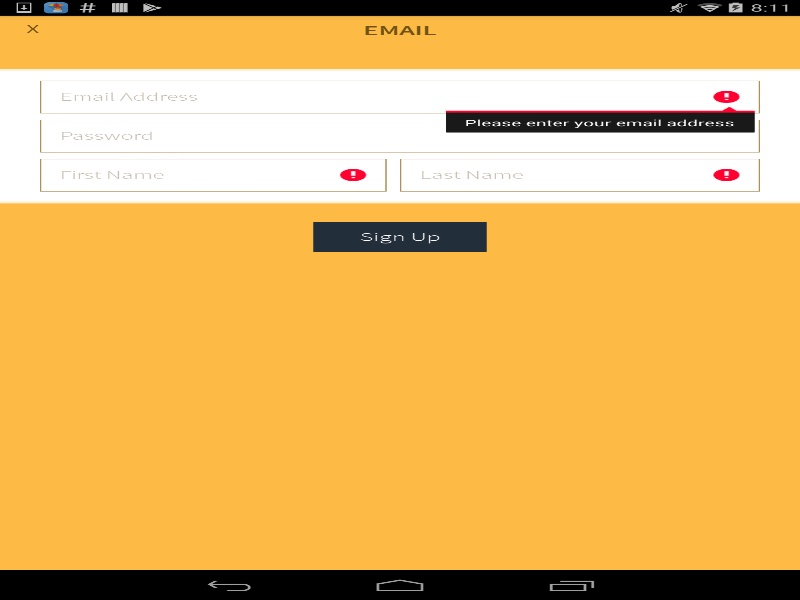Button: (313, 222, 486, 252)
Input: (40, 80, 760, 113), (40, 119, 760, 152), (400, 158, 760, 191), (40, 158, 386, 191)
